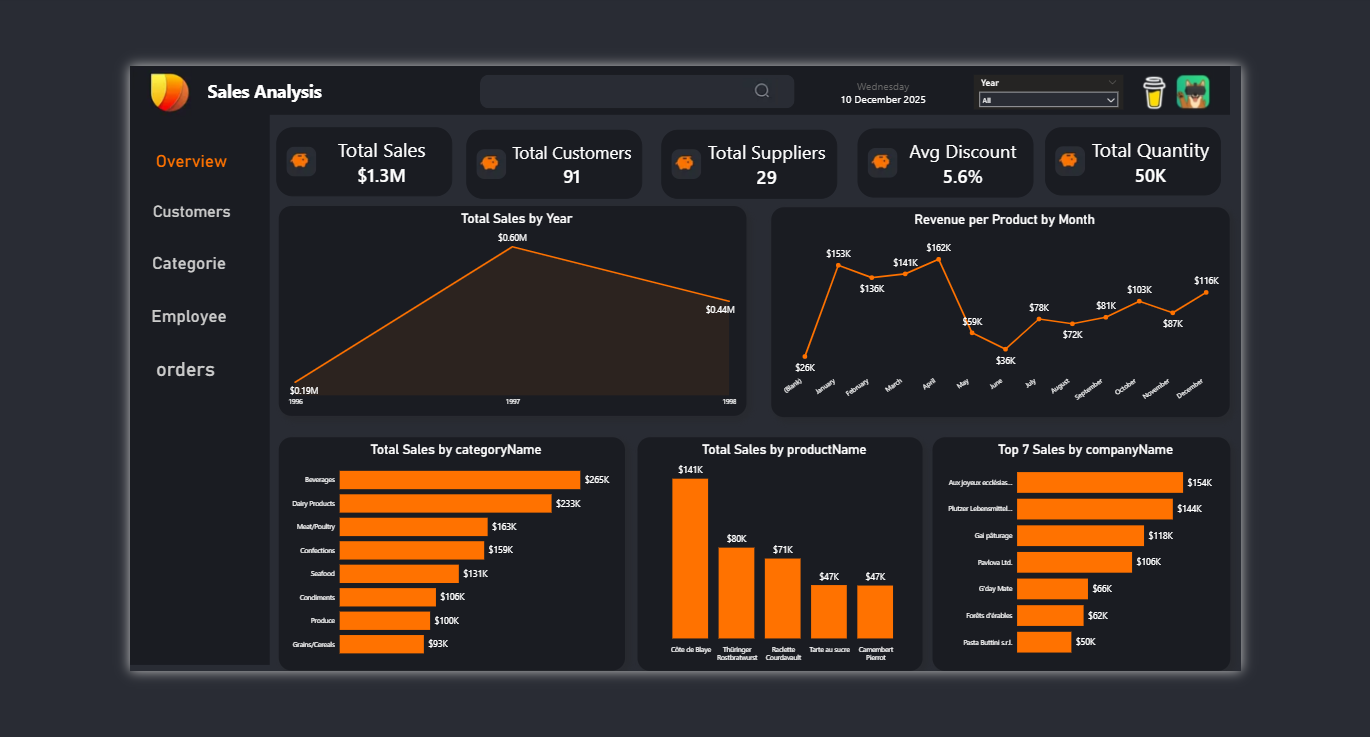

The page's visual inventory and layout, read from the dashboard file:
{"tool":"powerbi","page":{"name":"Overview","canvas":[2020,1100],"ordinal":0},"visuals":[{"type":"shape","box":[0,0,2000,88.9],"z":0},{"type":"shape","box":[0,0,254.5,1100],"z":1000},{"type":"actionButton","title":"Customers","box":[52.3,254.5,161.4,75],"z":2000},{"type":"actionButton","title":"Categories","box":[54.5,347.7,163.6,68.2],"z":3000},{"type":"actionButton","title":"orders","box":[38.6,543.2,175,93.2],"z":4000},{"type":"actionButton","title":"Employee","box":[52.3,447.7,143.2,65.9],"z":5000},{"type":"cardVisual","fields":{"Data":["MeasureDAX.Total Sales"]},"box":[264.8,111.1,320.4,125.9],"z":6000},{"type":"cardVisual","fields":{"Data":["MeasureDAX Customar.Total Customers"]},"box":[610.4,115.1,320,125.9],"z":7000},{"type":"cardVisual","fields":{"Data":["MeasureDAX.Avg Discount"]},"box":[1323,113.1,320.4,125.9],"z":8000},{"type":"cardVisual","fields":{"Data":["MeasureDAX Suppliers.Total Suppliers"]},"box":[966.7,117,320,125.9],"z":9000},{"type":"barChart","fields":{"Y":["MeasureDAX.Total Sales"],"Category":["category_Dim.categoryName"]},"box":[270.4,674.1,629.6,424],"z":10000},{"type":"columnChart","fields":{"Y":["MeasureDAX.Total Sales"],"Category":["product_Dim.productName"]},"box":[922.9,675,518.8,425],"z":11000},{"type":"shape","box":[637,14.8,572.2,61.1],"z":12000},{"type":"textbox","box":[1259.3,18.5,220.4,61.1],"z":13000},{"type":"lineChart","fields":{"Category":["order_Dim.shippedDate.Variation.Date Hierarchy.Year","order_Dim.shippedDate.Variation.Date Hierarchy.Month"],"Y":["MeasureDAX.Total Sales"]},"box":[270.4,255.6,850,381.5],"z":14000},{"type":"image","box":[1775.9,9.3,168.5,75.9],"z":15000},{"type":"image","box":[1861.1,5.6,138.9,75.9],"z":16000},{"type":"image","box":[0,1.9,116.7,88.9],"z":17000},{"type":"textbox","box":[127.8,18.5,309.3,66.7],"z":18000},{"type":"lineChart","fields":{"Y":["MeasureDAX.Revenue per Product"],"Category":["order_Dim.orderDate.Variation.Date Hierarchy.Month"]},"box":[1165.9,256.8,834.1,381.8],"z":19000},{"type":"image","box":[1085.2,22.2,124.1,48.1],"z":20000},{"type":"actionButton","title":"Overview","box":[54.5,156.8,143.2,40.9],"z":21000},{"type":"slicer","fields":{"Values":["order_Dim.shipRegion"]},"box":[1527.3,11.4,272.7,61.4],"z":22000},{"type":"cardVisual","fields":{"Data":["MeasureDAX.Total Quantity"]},"box":[1663,111.1,320.4,124.1],"z":23000},{"type":"barChart","title":"Top 7  Sales by companyName","fields":{"Category":["suppliers_Dim.companyName"],"Y":["MeasureDAX.Total Sales"]},"box":[1458.3,675,541.7,425],"z":24000}]}

Visuals, with their boxes in screenshot pixels (x1, y1, x2, y2), scaled from the page's 2020x1100 canvas onto the 1370x737 screenshot:
shape: 0,0,1356,60
shape: 0,0,173,736
"Customers" actionButton: 35,171,145,221
"Categories" actionButton: 37,233,148,279
"orders" actionButton: 26,364,145,426
"Employee" actionButton: 35,300,133,344
cardVisual - MeasureDAX.Total Sales: 180,74,397,159
cardVisual - MeasureDAX Customar.Total Customers: 414,77,631,161
cardVisual - MeasureDAX.Avg Discount: 897,76,1115,160
cardVisual - MeasureDAX Suppliers.Total Suppliers: 656,78,873,163
barChart - MeasureDAX.Total Sales x category_Dim.categoryName: 183,452,610,736
columnChart - MeasureDAX.Total Sales x product_Dim.productName: 626,452,978,736
shape: 432,10,820,51
textbox: 854,12,1004,53
lineChart - order_Dim.shippedDate.Variation.Date Hierarchy.Year x order_Dim.shippedDate.Variation.Date Hierarchy.Month: 183,171,760,427
image: 1204,6,1319,57
image: 1262,4,1356,55
image: 0,1,79,61
textbox: 87,12,296,57
lineChart - MeasureDAX.Revenue per Product x order_Dim.orderDate.Variation.Date Hierarchy.Month: 791,172,1356,428
image: 736,15,820,47
"Overview" actionButton: 37,105,134,132
slicer - order_Dim.shipRegion: 1036,8,1221,49
cardVisual - MeasureDAX.Total Quantity: 1128,74,1345,158
"Top 7  Sales by companyName" barChart: 989,452,1356,736
